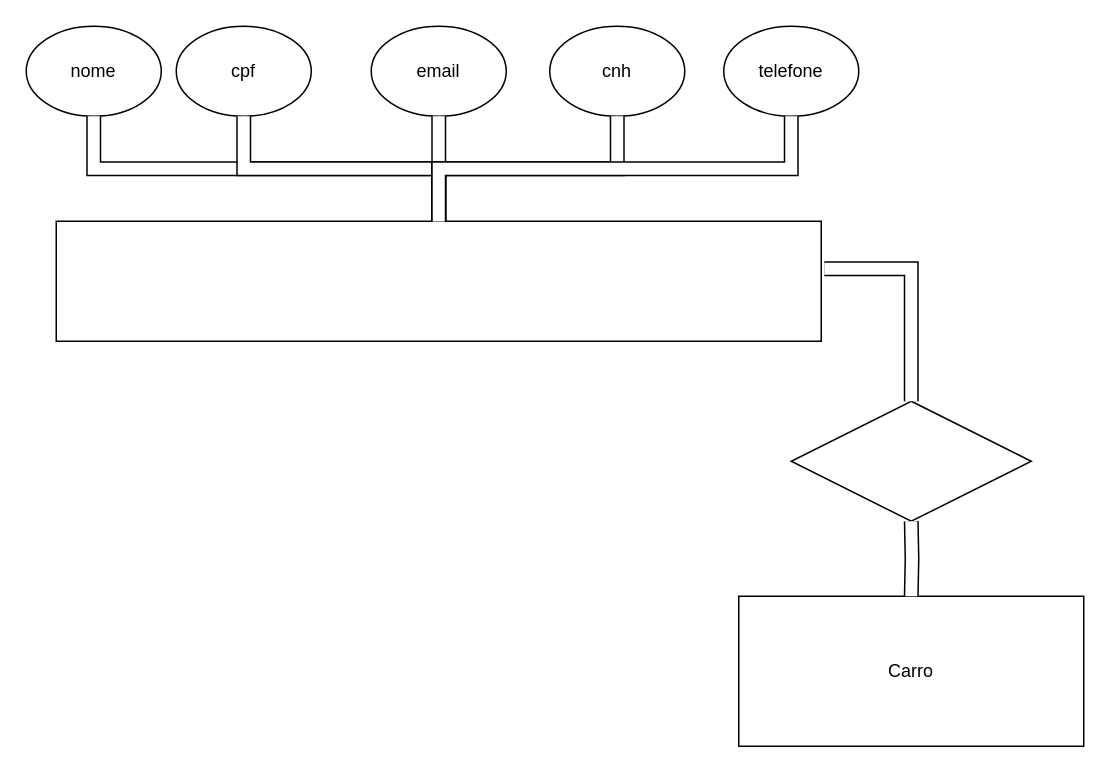
This 1110x773 diagram has some shape labels left out. Each missing label, with the centre of its shape:
Aluga: (910,460)
Cliente: (438,280)
